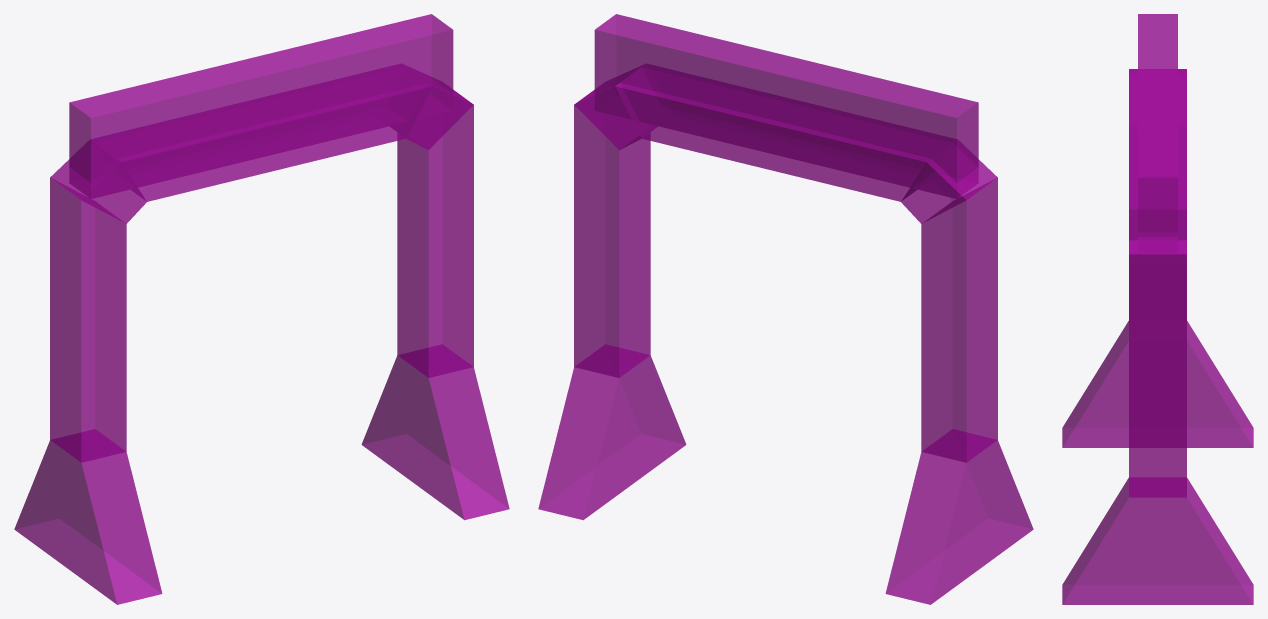
The model's file is SM_Bld_Wall_Door_Double_03_Collision.fbx.
3 views of the same model, side by side, from view 1: azimuth 30°, elevation 25°; view 2: azimuth 150°, elevation 25°; view 3: azimuth 270°, elevation 25° (orthographic). The views are drawn at different scales.
Visible parts, largest first — view 1: SM_Bld_Wall_Door_Double_03_Collision; view 2: SM_Bld_Wall_Door_Double_03_Collision; view 3: SM_Bld_Wall_Door_Double_03_Collision.
Boxes of the visible parts, box(x1,y1,x2,y2) form: SM_Bld_Wall_Door_Double_03_Collision: box(14, 14, 509, 604); SM_Bld_Wall_Door_Double_03_Collision: box(538, 14, 1033, 604); SM_Bld_Wall_Door_Double_03_Collision: box(1062, 14, 1253, 604).
Size of the model in its own units: 275 by 303 by 125.
